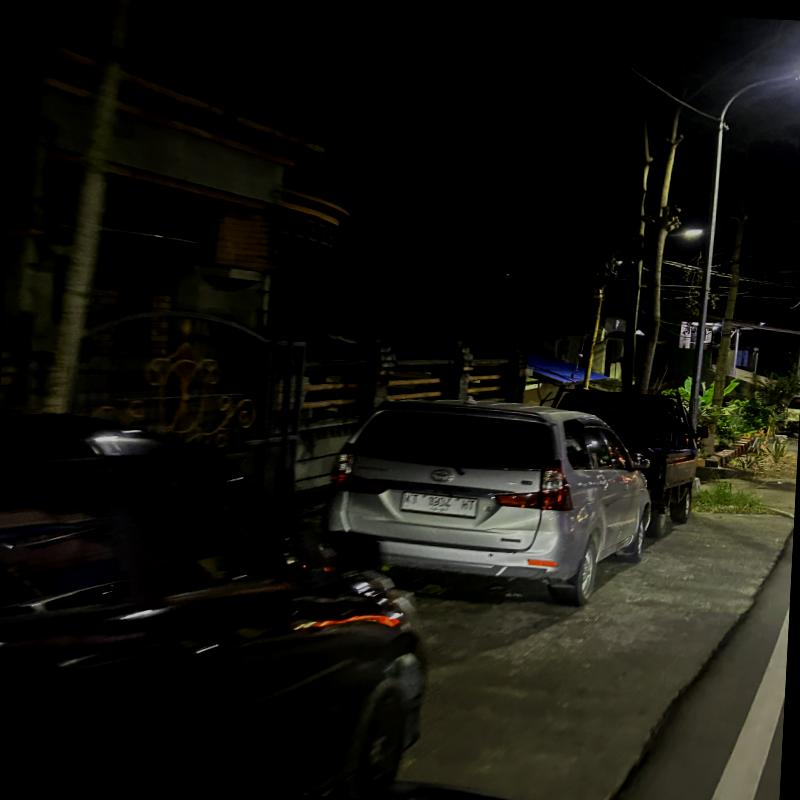license plate on a car: (390, 478, 494, 526)
